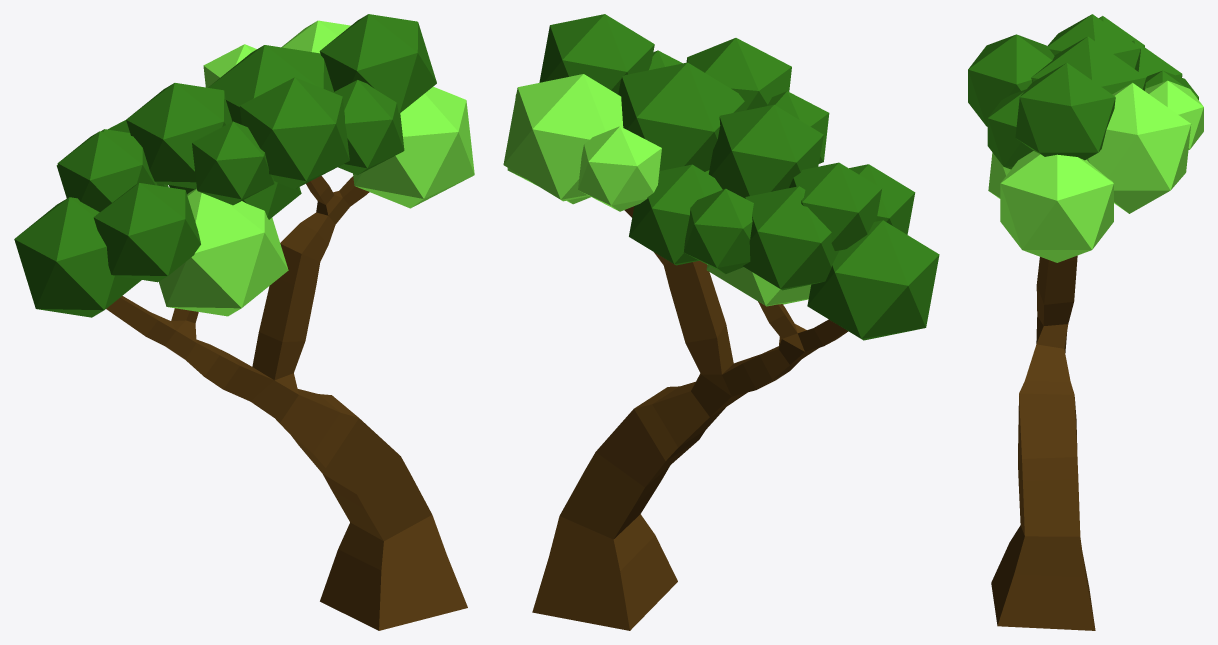
Rendered from arbol3.fbx.
The picture shows the model from 3 angles, left to right: view 1: azimuth 30°, elevation 25°; view 2: azimuth 150°, elevation 25°; view 3: azimuth 270°, elevation 25°; orthographic projection. The views are drawn at different scales.
Parts seen in each view (by area): view 1: Cube, Icosphere.002, Icosphere.003, Icosphere.013, Icosphere, Icosphere.005, Icosphere.012, Icosphere.004, Icosphere.006, Icosphere.009, Icosphere.008, Icosphere.001 (+3 smaller); view 2: Cube, Icosphere.003, Icosphere.007, Icosphere.001, Icosphere.004, Icosphere.010, Icosphere.012, Icosphere.015, Icosphere.014, Icosphere.006, Icosphere.017, Icosphere.013 (+3 smaller); view 3: Cube, Icosphere, Icosphere.007, Icosphere.012, Icosphere.013, Icosphere.001, Icosphere.004, Icosphere.008, Icosphere.015, Icosphere.010, Icosphere.002, Icosphere.017.
Boxes of the visible parts, left/top/right/bottom form: Cube: left=106, top=175, right=467, bottom=630; Icosphere.002: left=159, top=188, right=288, bottom=316; Icosphere.003: left=14, top=197, right=141, bottom=317; Icosphere.013: left=240, top=77, right=349, bottom=189; Icosphere: left=353, top=86, right=474, bottom=208; Icosphere.005: left=93, top=183, right=200, bottom=282; Icosphere.012: left=319, top=14, right=436, bottom=113; Icosphere.004: left=126, top=83, right=232, bottom=188; Icosphere.006: left=57, top=131, right=157, bottom=211; Icosphere.009: left=192, top=121, right=274, bottom=205; Icosphere.008: left=333, top=80, right=404, bottom=175; Icosphere.001: left=208, top=45, right=333, bottom=124; Cube: left=532, top=206, right=848, bottom=630; Icosphere.003: left=807, top=220, right=939, bottom=340; Icosphere.007: left=503, top=74, right=623, bottom=201; Icosphere.001: left=618, top=62, right=744, bottom=171; Icosphere.004: left=708, top=104, right=823, bottom=198; Icosphere.010: left=743, top=186, right=838, bottom=290; Icosphere.012: left=539, top=14, right=654, bottom=94; Icosphere.015: left=578, top=126, right=661, bottom=211; Icosphere.014: left=629, top=164, right=722, bottom=265; Icosphere.006: left=789, top=162, right=881, bottom=250; Icosphere.017: left=683, top=188, right=753, bottom=273; Icosphere.013: left=686, top=38, right=791, bottom=110; Cube: left=991, top=255, right=1095, bottom=630; Icosphere: left=1000, top=151, right=1113, bottom=262; Icosphere.007: left=1086, top=83, right=1191, bottom=213; Icosphere.012: left=1015, top=63, right=1115, bottom=160; Icosphere.013: left=968, top=34, right=1054, bottom=126; Icosphere.001: left=1031, top=36, right=1146, bottom=94; Icosphere.004: left=1047, top=14, right=1140, bottom=71; Icosphere.008: left=987, top=89, right=1033, bottom=169; Icosphere.015: left=1145, top=80, right=1203, bottom=149; Icosphere.010: left=1132, top=40, right=1182, bottom=77; Icosphere.002: left=988, top=152, right=1010, bottom=198; Icosphere.017: left=1145, top=70, right=1198, bottom=99.
Bounding box in the file's own units: 367 × 494 × 194.
